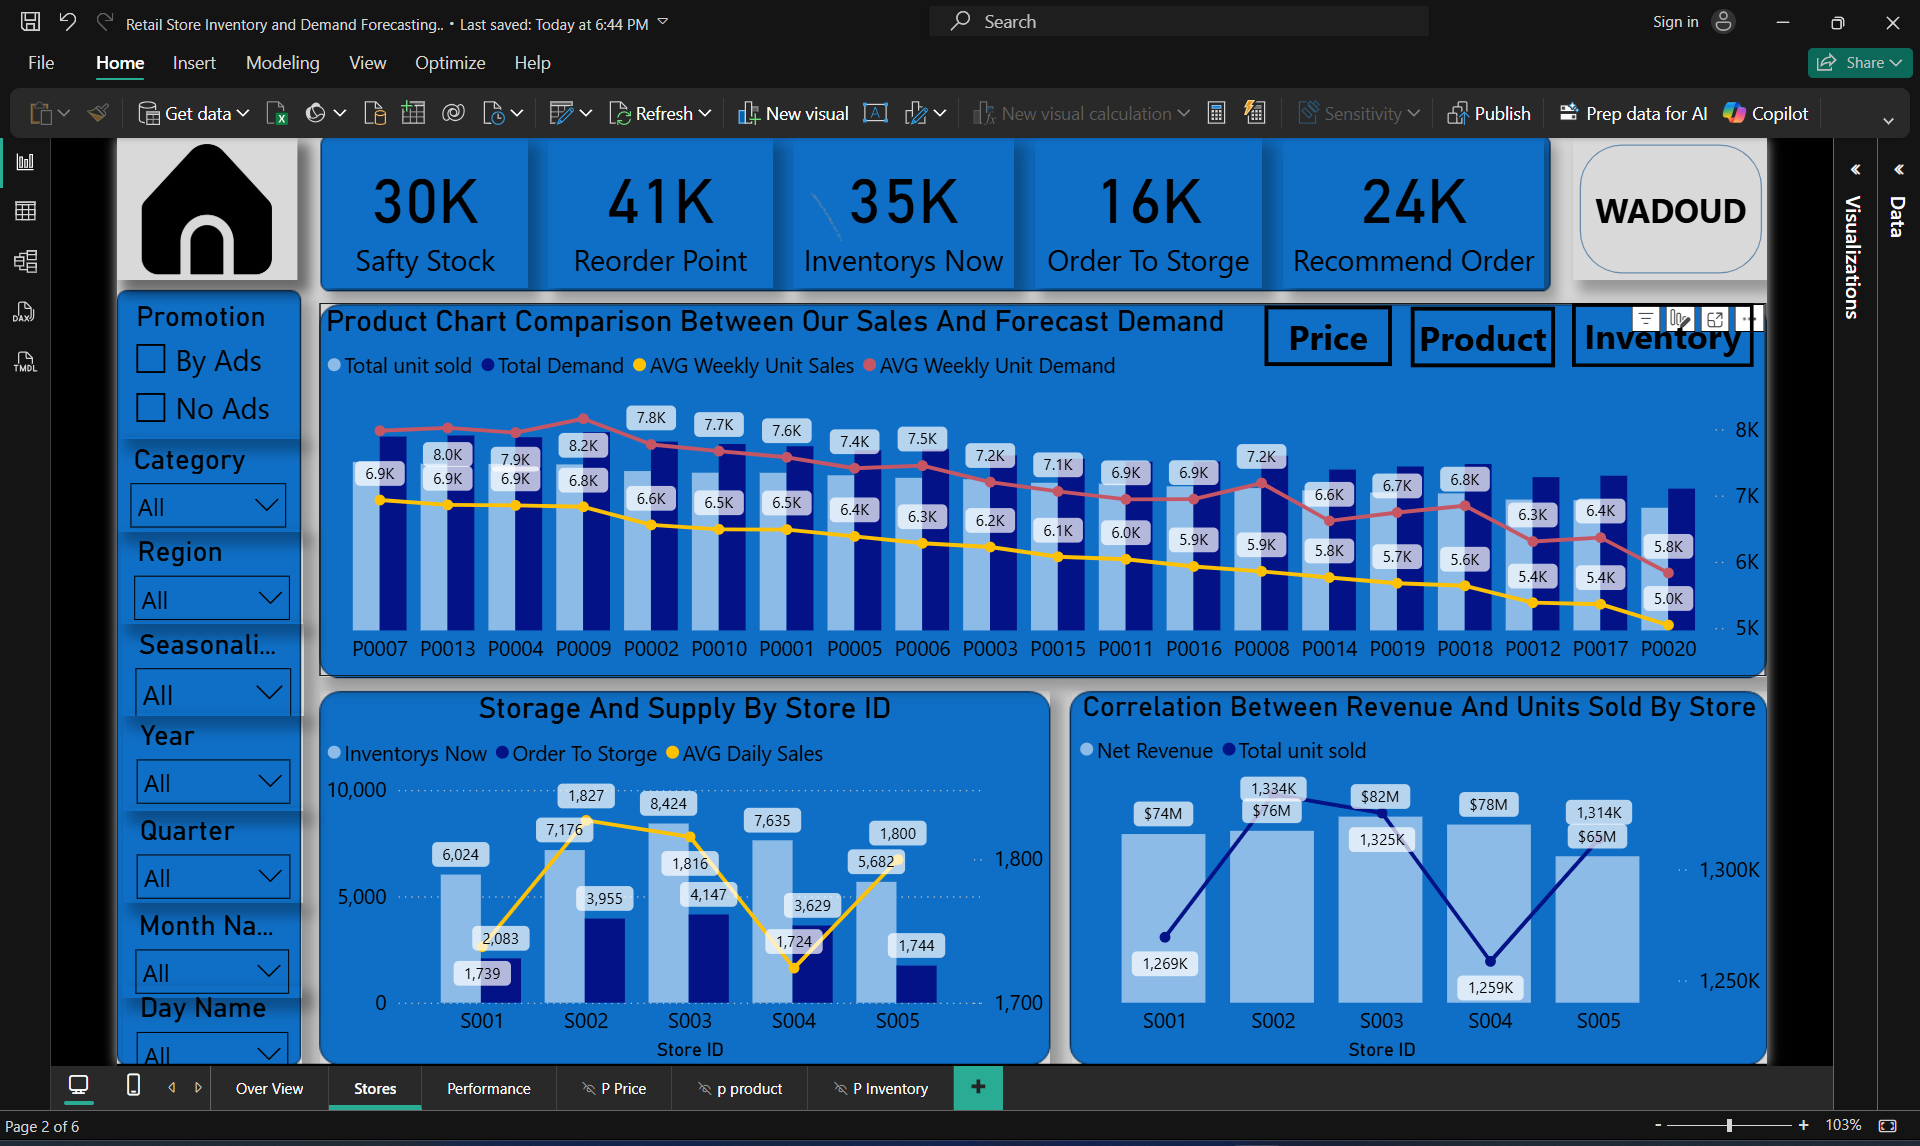

This screenshot's page, from the dashboard's own definition file:
{"tool":"powerbi","page":{"name":"Stores ","canvas":[1280,720],"ordinal":1},"visuals":[{"type":"shape","box":[1128.3,0,151.4,110.1],"z":0,"group":"g4"},{"type":"actionButton","box":[1128,127.8,141,49.9],"z":0,"group":"g2"},{"type":"lineClusteredColumnComboChart","title":"  Inventory Chart by Product ID            .    .","fields":{"Category":["sales_data.Product_ID"],"Y":["sales_data.Inventory","sales_data.Safty Stock"],"Y2":["sales_data.Daily Sales AVG","sales_data.AVG Daliy Demand"]},"box":[157,128,1122.3,290.1],"z":0,"group":"g1"},{"type":"slicer","fields":{"Values":["sales_data.Category"]},"box":[0,231.3,141.3,73.8],"z":0},{"type":"shape","box":[1128.3,0,151.4,110.1],"z":1000,"group":"g4"},{"type":"actionButton","box":[1003,130.7,111.9,47],"z":1000,"group":"g2"},{"type":"slicer","fields":{"Values":["Calender table.Year"]},"box":[4.8,445.8,139.3,75.9],"z":1000},{"type":"image","box":[11.3,353.6,130.4,112.5],"z":1500,"group":"g3"},{"type":"shape","box":[1127.8,0,151.4,109.9],"z":2000,"group":"g4"},{"type":"actionButton","box":[889.6,129.5,98.8,47],"z":2000,"group":"g2"},{"type":"image","box":[0,232.3,141,120.2],"z":2000,"group":"g3"},{"type":"slicer","fields":{"Values":["sales_data.Region"]},"box":[3.3,303,141.3,73.8],"z":2000},{"type":"image","box":[0,113.4,141,118.9],"z":3000,"group":"g3"},{"type":"slicer","fields":{"Values":["Calender table.Month Name"]},"box":[4.2,593.4,139.3,73.8],"z":3000},{"type":"slicer","fields":{"Values":["sales_data.Seasonality"]},"box":[3.5,374.7,141,73.1],"z":4000},{"type":"slicer","fields":{"Values":["Calender table.Day Name"]},"box":[5.2,656.8,138.1,63.2],"z":5000},{"type":"slicer","fields":{"Values":["sales_data.Promotion"]},"box":[2.1,121.6,140.3,112.2],"z":6000},{"type":"slicer","fields":{"Values":["Calender table.Quarter"]},"box":[5.2,519.6,139.3,73.8],"z":7000},{"type":"card","fields":{"Values":["sales_data.Safty Stock"]},"box":[160.2,0.2,158.7,116.2],"z":8000},{"type":"card","fields":{"Values":["sales_data.Ordered To Storge"]},"box":[711.4,0.3,177.2,116.2],"z":9000},{"type":"card","fields":{"Values":["sales_data.Inventorys Now"]},"box":[524.4,0.3,171.5,116.2],"z":18000},{"type":"group","id":"g1","title":"Product Graf","box":[157,128,1122.4,290.1],"z":19000},{"type":"lineClusteredColumnComboChart","title":"Storage And Supply By Store ID","fields":{"Category":["sales_data.Store_ID"],"Y":["sales_data.Total Inventorys","sales_data.Ordered To Storge"],"Y2":["sales_data.AVG Daily Unit Sales"]},"box":[157,428.1,566.2,292.1],"z":20000},{"type":"group","id":"g2","title":"G prouduct","box":[889.6,127.8,379.3,49.9],"z":21000},{"type":"card","fields":{"Values":["sales_data.Recommended Order"]},"box":[904.2,0,202.7,116.4],"z":22000},{"type":"card","fields":{"Values":["sales_data.Rorder Point"]},"box":[334.5,0.3,174.3,116.2],"z":23000},{"type":"lineClusteredColumnComboChart","title":"Correlation Between Revenue  And Units Sold By Store","fields":{"Category":["sales_data.Store_ID"],"Y":["sales_data.Total Sales After Discount"],"Y2":["sales_data.Total unit sold"]},"box":[740.2,428.1,539.2,292.1],"z":24000},{"type":"group","id":"g3","title":"Group 1","box":[0,113.4,141.7,381.3],"z":26000},{"type":"image","box":[0,0,139.6,110.5],"z":27000},{"type":"group","id":"g4","title":"Wadoud G","box":[1127.8,0,151.9,110.1],"z":28000}]}

Visuals, with their boxes on the page's 1280x720 design canvas (x1, y1, x2, y2). These are canvas units, not pixel positions in the 1920x1146 screenshot, which may show the page scaled, cropped or inside an application window:
shape: Rect(1128, 0, 1280, 110)
actionButton: Rect(1128, 128, 1269, 178)
"  Inventory Chart by Product ID            .    ." lineClusteredColumnComboChart: Rect(157, 128, 1279, 418)
slicer - sales_data.Category: Rect(0, 231, 141, 305)
shape: Rect(1128, 0, 1280, 110)
actionButton: Rect(1003, 131, 1115, 178)
slicer - Calender table.Year: Rect(5, 446, 144, 522)
image: Rect(11, 354, 142, 466)
shape: Rect(1128, 0, 1279, 110)
actionButton: Rect(890, 130, 988, 176)
image: Rect(0, 232, 141, 352)
slicer - sales_data.Region: Rect(3, 303, 145, 377)
image: Rect(0, 113, 141, 232)
slicer - Calender table.Month Name: Rect(4, 593, 144, 667)
slicer - sales_data.Seasonality: Rect(4, 375, 144, 448)
slicer - Calender table.Day Name: Rect(5, 657, 143, 720)
slicer - sales_data.Promotion: Rect(2, 122, 142, 234)
slicer - Calender table.Quarter: Rect(5, 520, 144, 593)
card - sales_data.Safty Stock: Rect(160, 0, 319, 116)
card - sales_data.Ordered To Storge: Rect(711, 0, 889, 116)
card - sales_data.Inventorys Now: Rect(524, 0, 696, 116)
"Product Graf" group: Rect(157, 128, 1279, 418)
"Storage And Supply By Store ID" lineClusteredColumnComboChart: Rect(157, 428, 723, 720)
"G prouduct" group: Rect(890, 128, 1269, 178)
card - sales_data.Recommended Order: Rect(904, 0, 1107, 116)
card - sales_data.Rorder Point: Rect(334, 0, 509, 116)
"Correlation Between Revenue  And Units Sold By Store" lineClusteredColumnComboChart: Rect(740, 428, 1279, 720)
"Group 1" group: Rect(0, 113, 142, 495)
image: Rect(0, 0, 140, 110)
"Wadoud G" group: Rect(1128, 0, 1280, 110)
